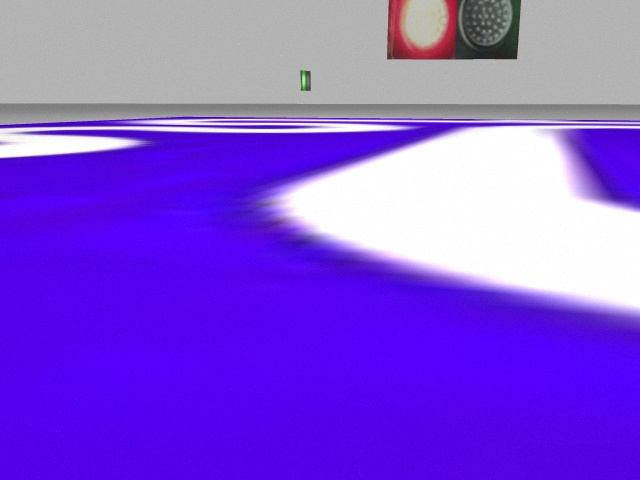red: (387, 2, 455, 62)
